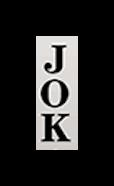BLACK JOKER: (33, 37, 81, 149)
